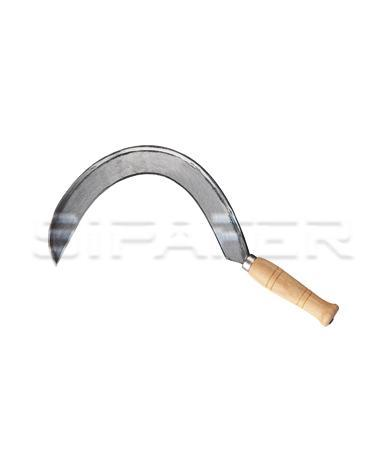foice: (41, 142, 342, 327)
